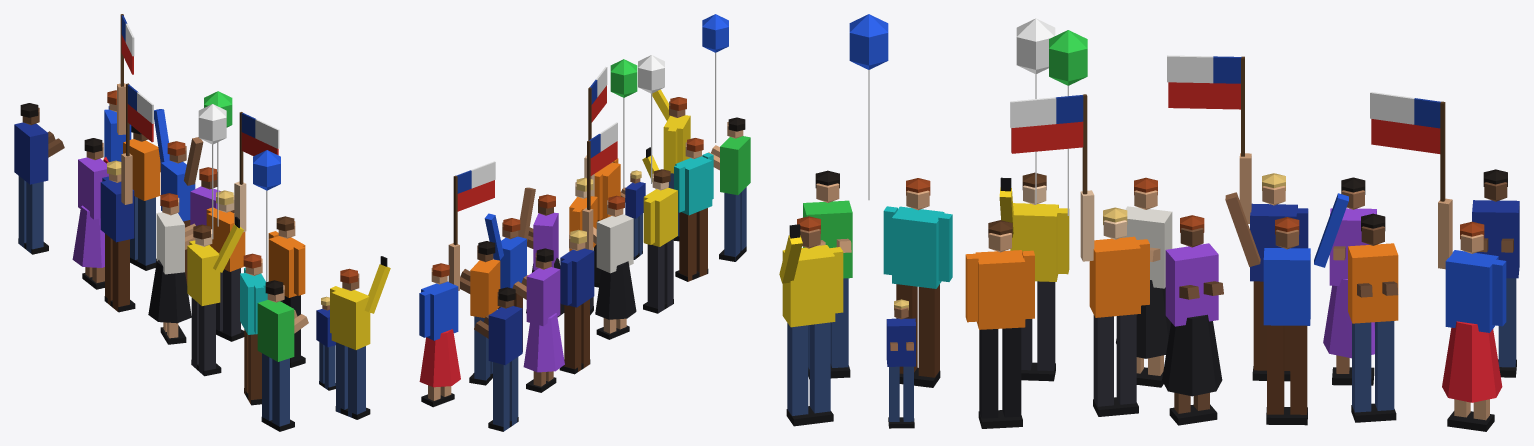
Rendered from publico_fiesta_6.obj.
3 views of the same model, side by side, from view 1: azimuth 30°, elevation 25°; view 2: azimuth 150°, elevation 25°; view 3: azimuth 270°, elevation 25° (orthographic). The views are drawn at different scales.
Parts seen in each view (by area): view 1: publico_fiesta_6; view 2: publico_fiesta_6; view 3: publico_fiesta_6.
Part boxes in pixels (left/top/right/bottom): publico_fiesta_6: left=14, top=14, right=390, bottom=431; publico_fiesta_6: left=419, top=14, right=750, bottom=431; publico_fiesta_6: left=779, top=14, right=1519, bottom=431.
Bounding box in the file's own units: 1.4 × 3.09 × 5.73.
